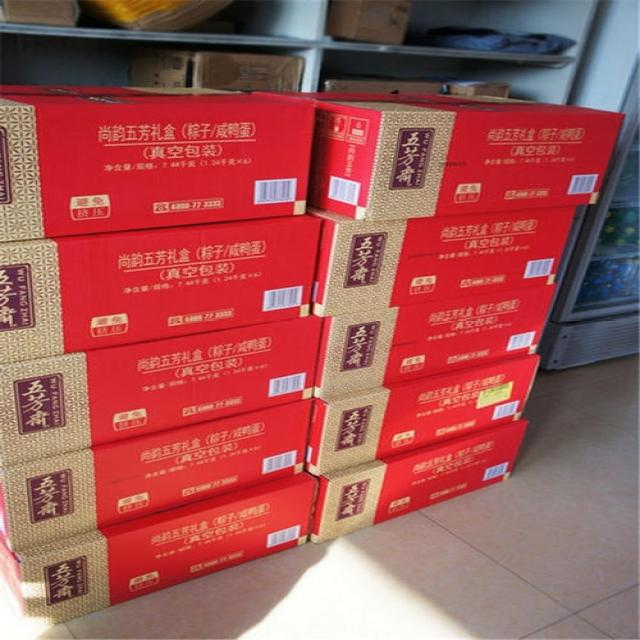box: (0, 474, 320, 632), (0, 86, 315, 244), (0, 316, 321, 469), (259, 91, 626, 222), (1, 400, 314, 553), (0, 216, 323, 364), (310, 205, 577, 318), (306, 353, 540, 477), (315, 283, 559, 398), (308, 419, 530, 544)
